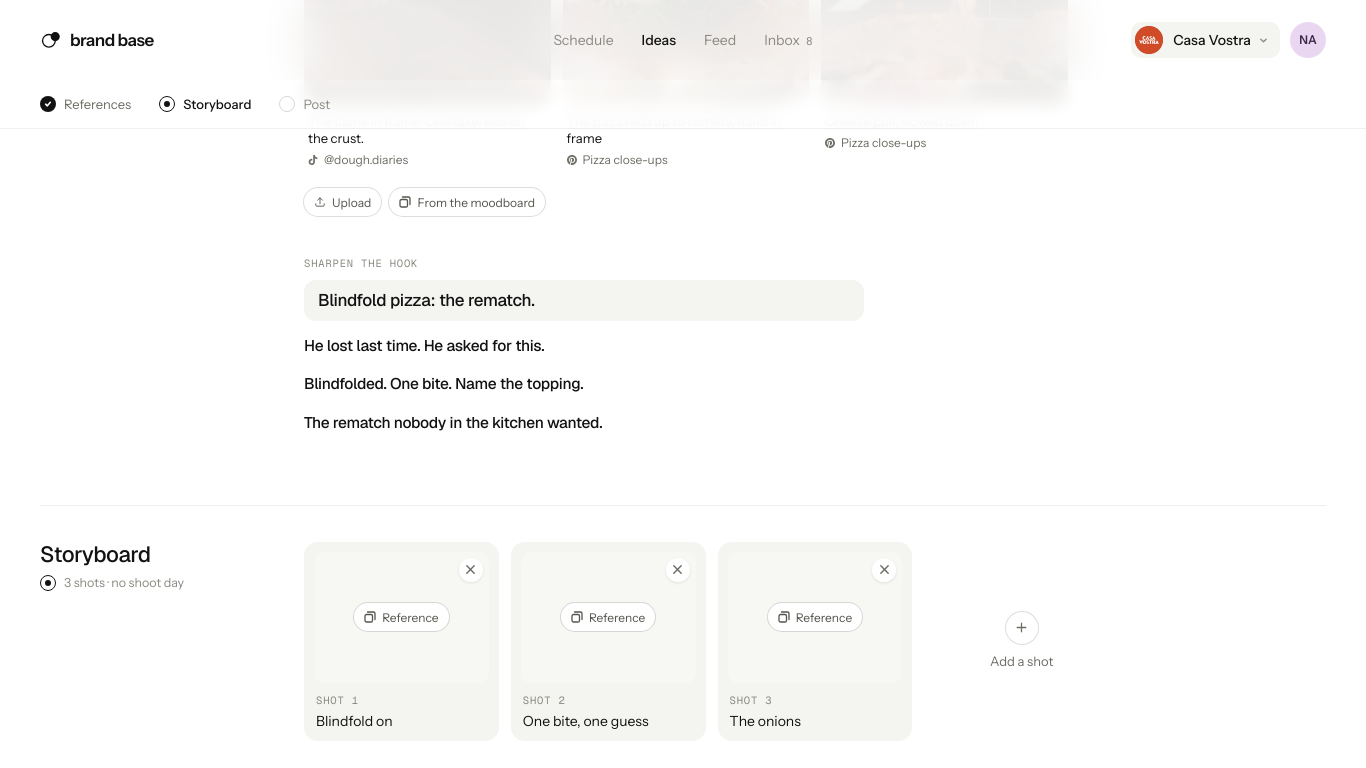
Test case: an idea page › sharpens the hook in a field that stays editable, and goes back to the team's words
(page scrolled)
expect the text box named "Edit the hook" holds "Blindfold pizza: the rematch.": met, box [304, 280, 864, 321]
expect the button "Back to mine" is not shown: met
A sharper hook fills the field and the title above: they are one hook.
Click the radio button labelled "Blindfolded. One bite. Name the topping." at (584, 385), box [292, 368, 876, 402]
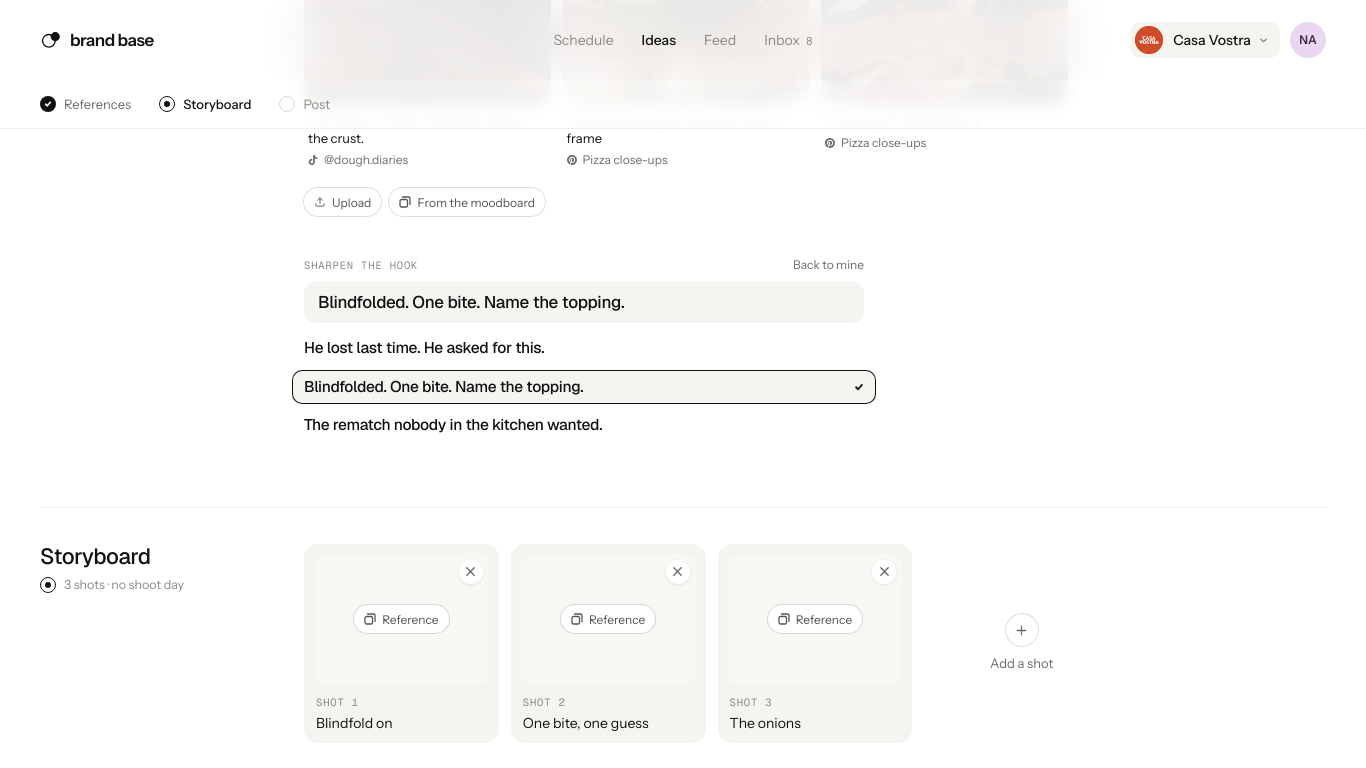
expect the text box named "Edit the hook" holds "Blindfolded. One bite. Name the topping.": met
Typing from there keeps the typed words, and the way back stays.
Replace the text in the text box named "Edit the hook" with "Blindfolded. One bite. Name it." at (584, 302), box [304, 282, 864, 323]
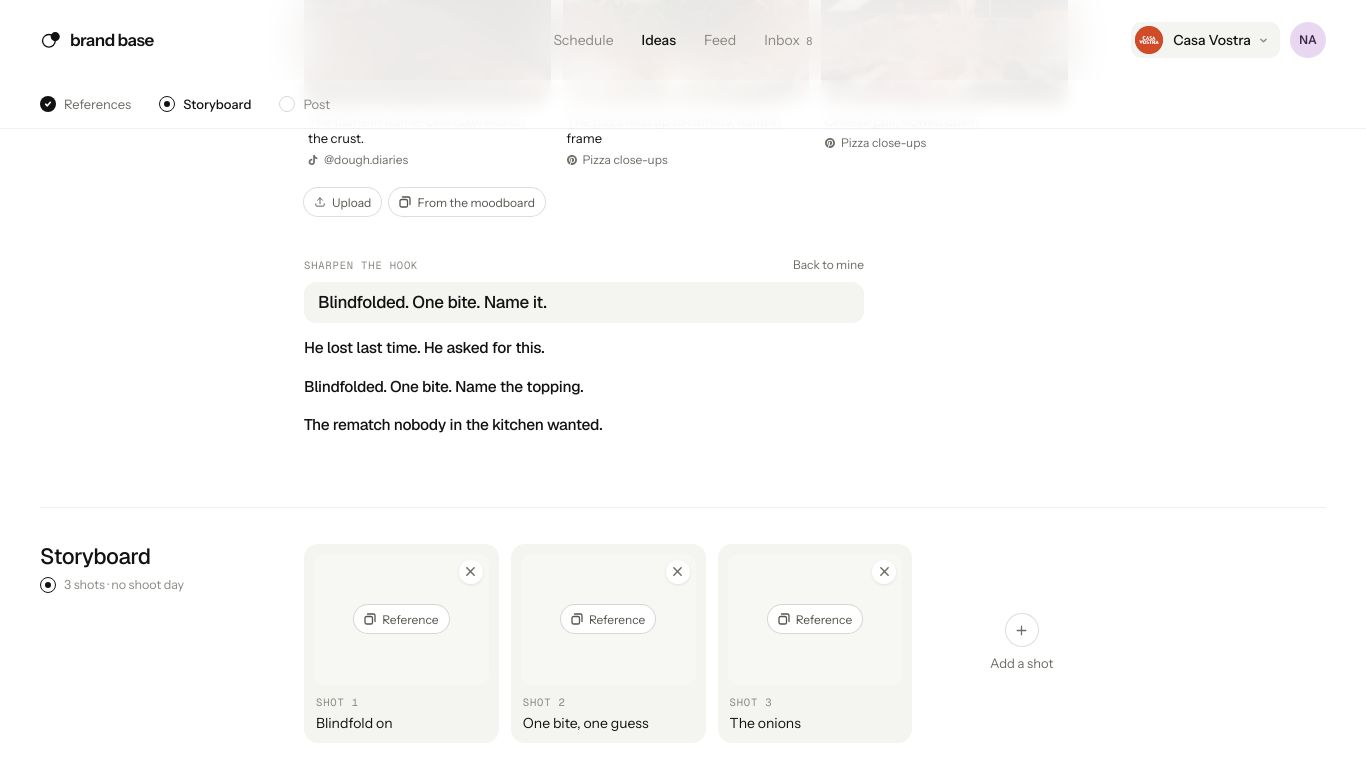
expect the radio button labelled "Blindfolded. One bite. Name the topping." is not checked: met, box [292, 370, 876, 404]
Click the button "Back to mine" at (829, 265), box [793, 256, 864, 274]
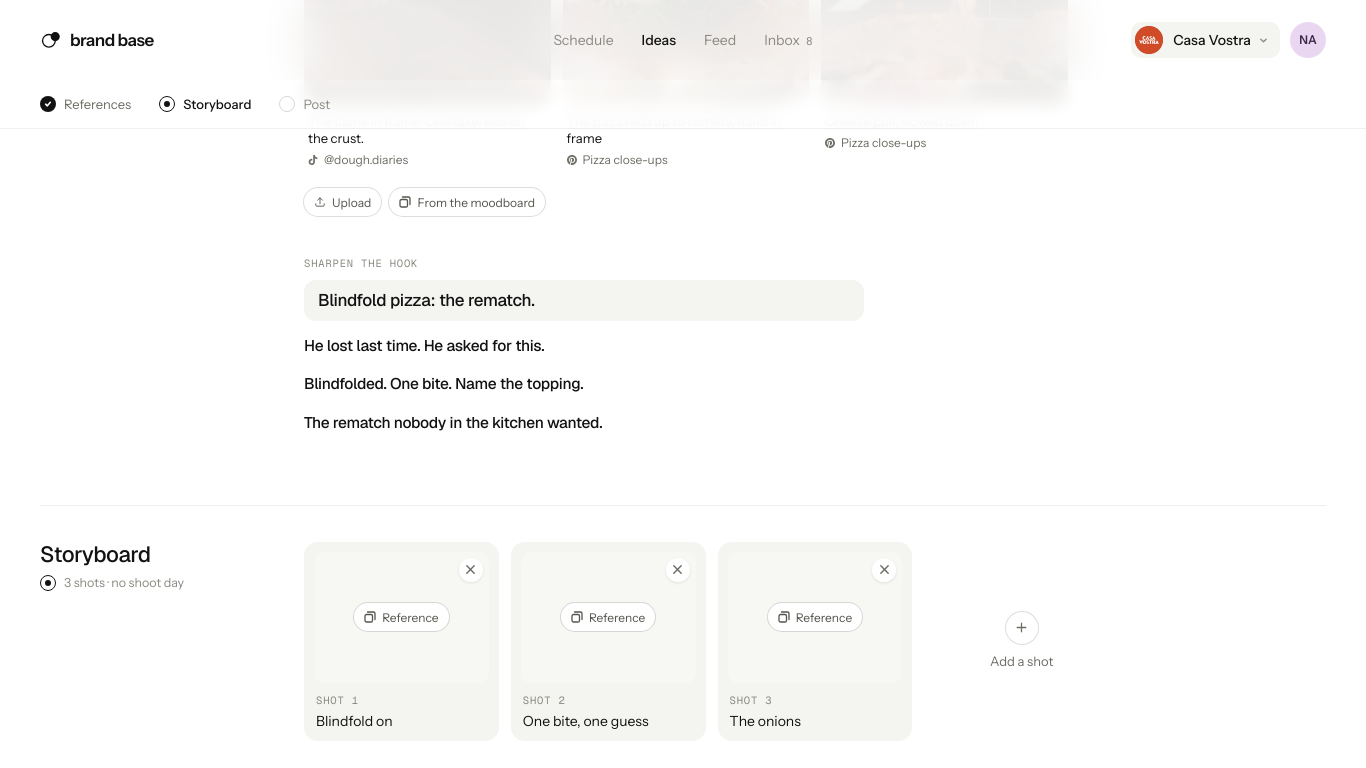
expect the text box named "Edit the hook" holds "Blindfold pizza: the rematch.": met, box [304, 280, 864, 321]
expect the button "Back to mine" is gone: met
